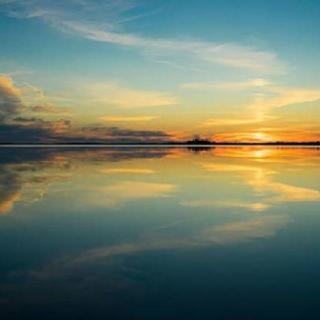Cirrostratus: (0, 0, 320, 122)
